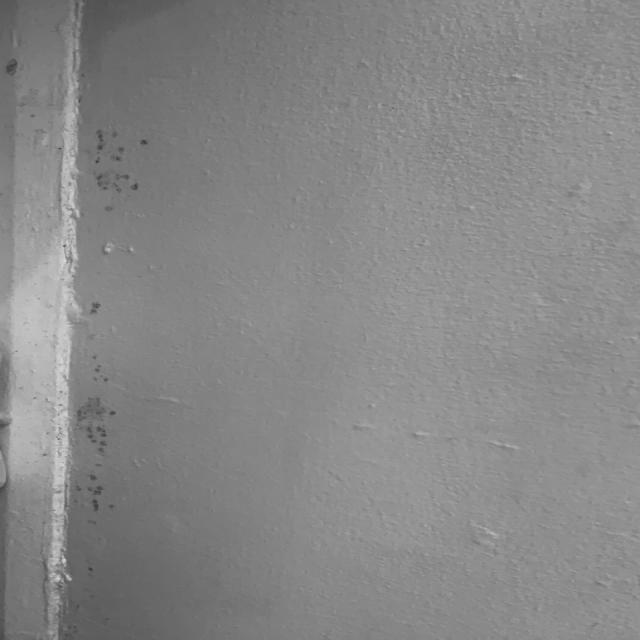stain marks: (6, 286, 150, 544), (20, 98, 174, 224)
